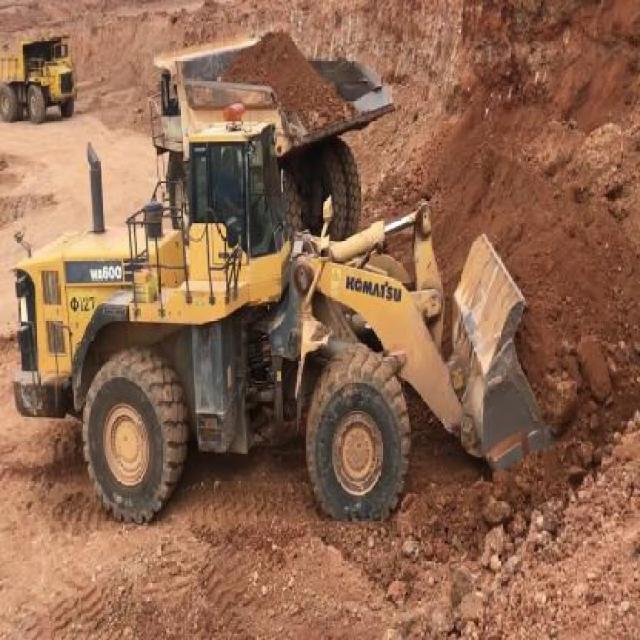Dump Truck: (132, 29, 398, 153), (1, 32, 77, 116)
Loader: (11, 114, 554, 520)
